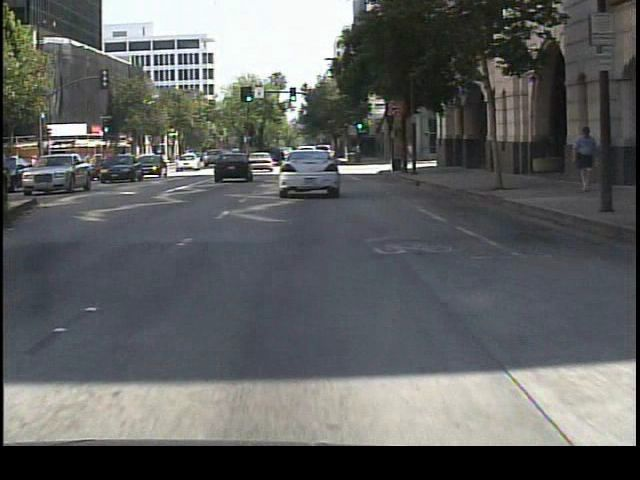person: (568, 123, 597, 197)
